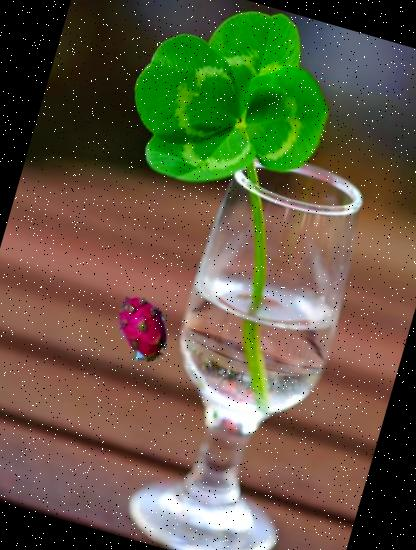Pitahaya: (101, 285, 186, 370)
